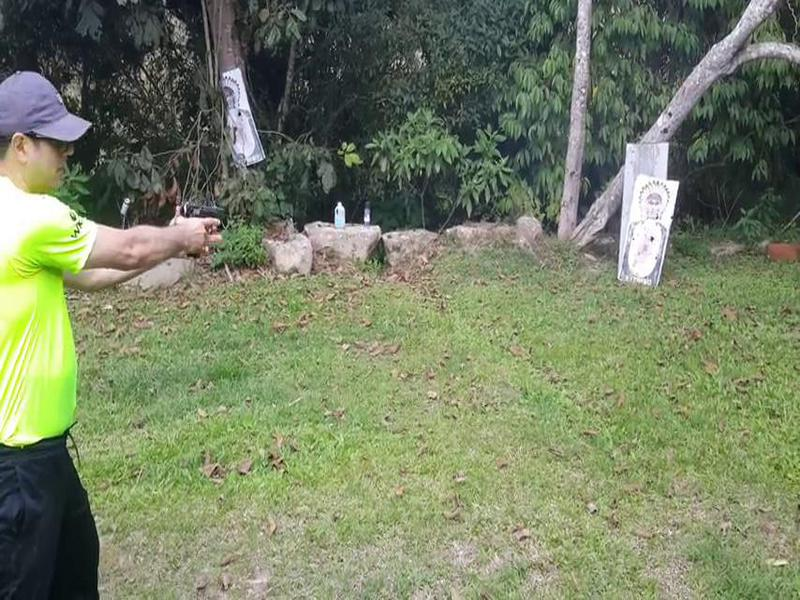Pistola: (163, 186, 238, 241)
